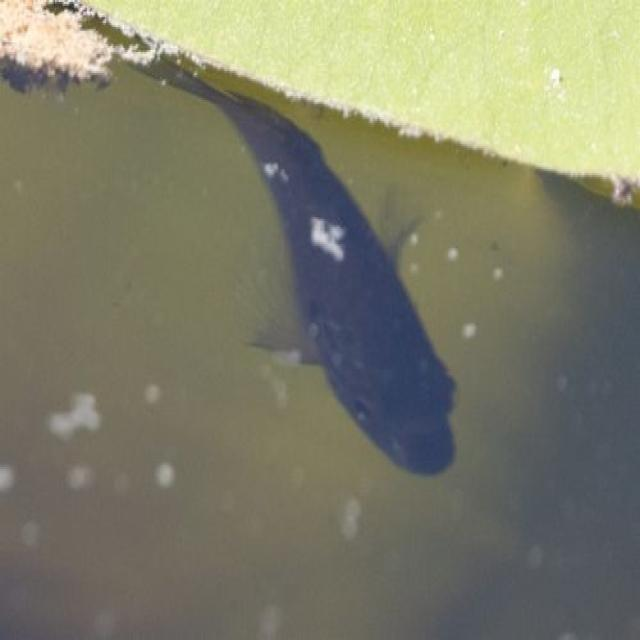Gunes Levregi: (141, 49, 463, 485)
